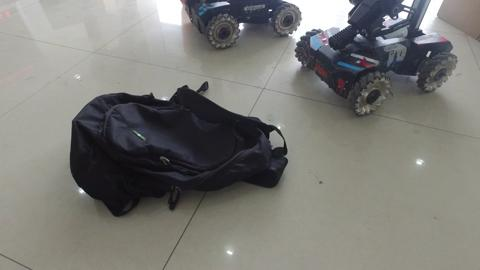bag: (74, 92, 293, 203)
chariot: (293, 1, 455, 115), (187, 1, 300, 49)
